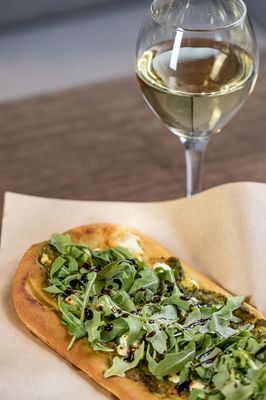curry: (1, 2, 264, 400)
sandwich: (12, 223, 264, 400), (135, 0, 259, 199)
